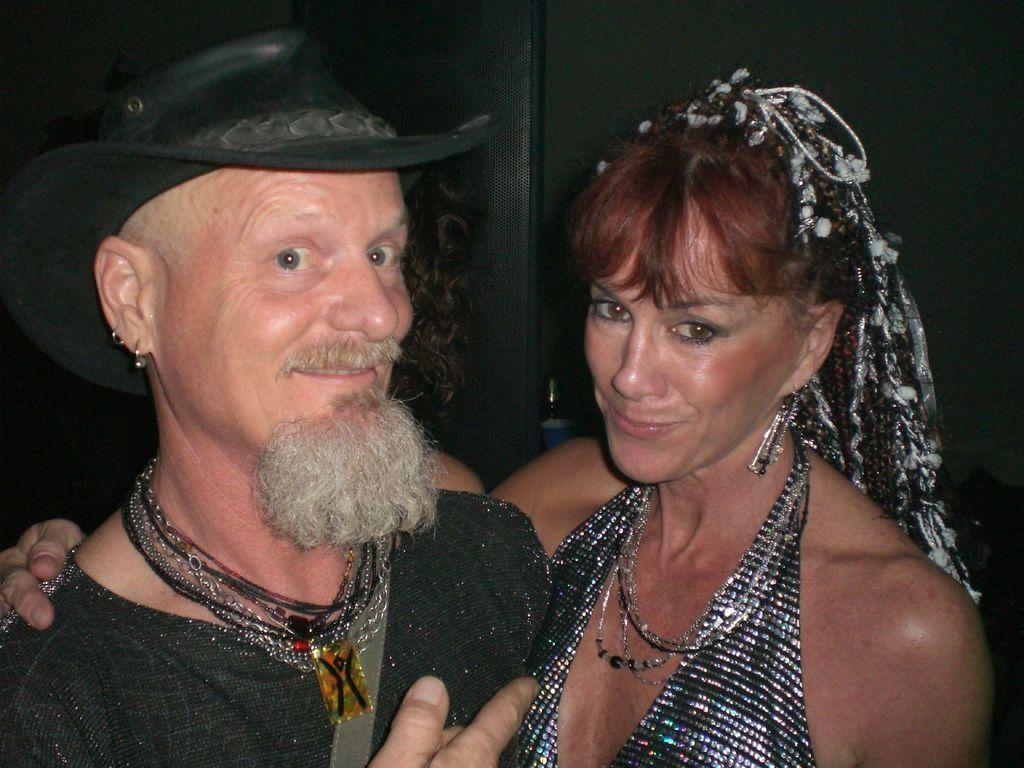Hat: (0, 30, 493, 399)
